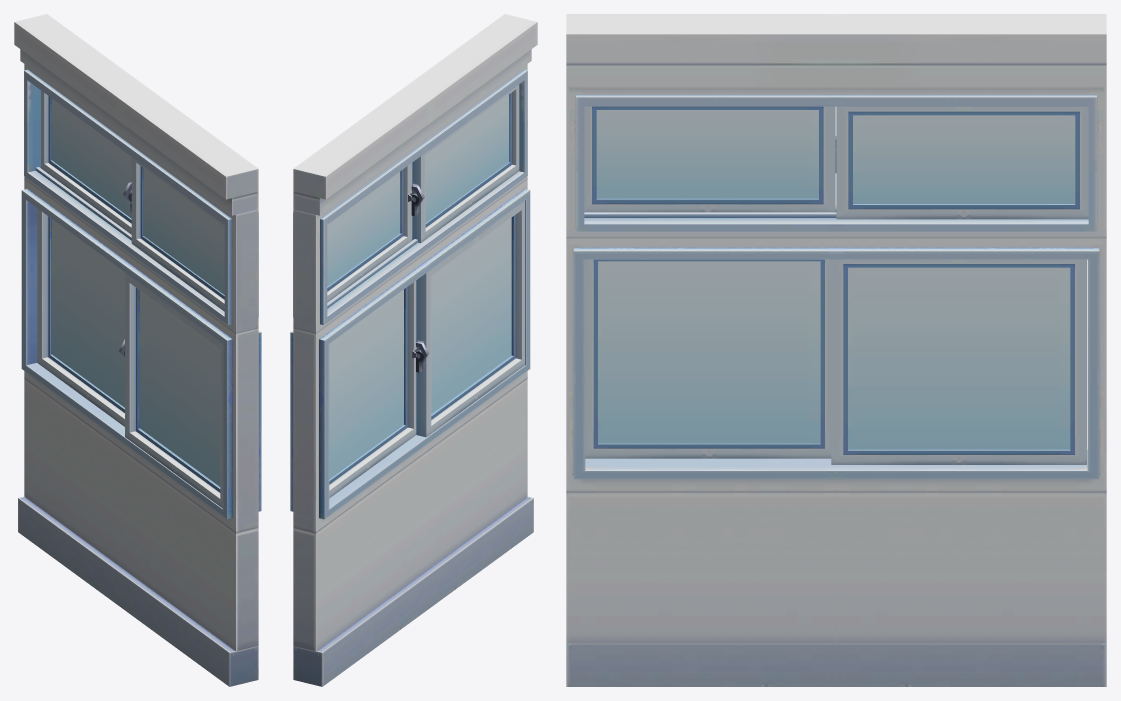
Rendered from my_abydosclassroom_01_partition_03.glb.
3 views of the same model, side by side, from view 1: azimuth 30°, elevation 25°; view 2: azimuth 150°, elevation 25°; view 3: azimuth 270°, elevation 25° (orthographic). The views are drawn at different scales.
Visible parts, largest first — view 1: my_abydosclassroom_01_partition_03; view 2: my_abydosclassroom_01_partition_03; view 3: my_abydosclassroom_01_partition_03.
Boxes of the visible parts, x1,y1,x2,y2 form: my_abydosclassroom_01_partition_03: (14, 14, 261, 686); my_abydosclassroom_01_partition_03: (290, 14, 537, 686); my_abydosclassroom_01_partition_03: (566, 14, 1106, 686).
Size of the model in its own units: 0.00126 by 0.016 by 0.012.
Materials: 2 (2 with a texture image).
